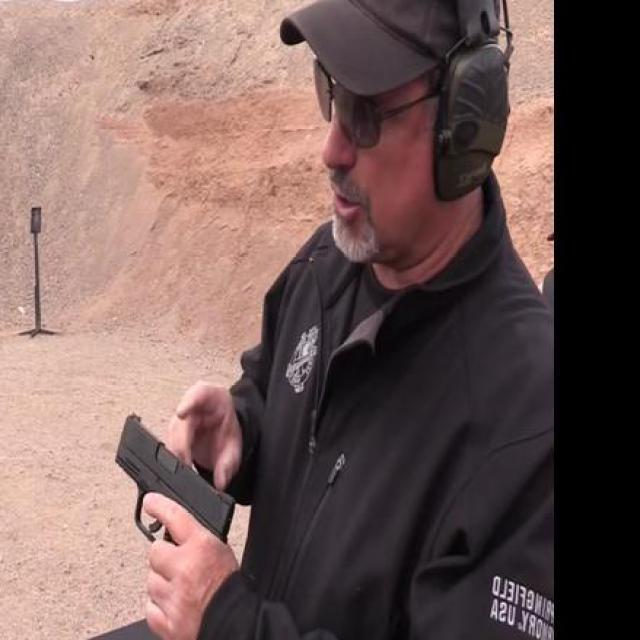Gun: (114, 410, 234, 622)
